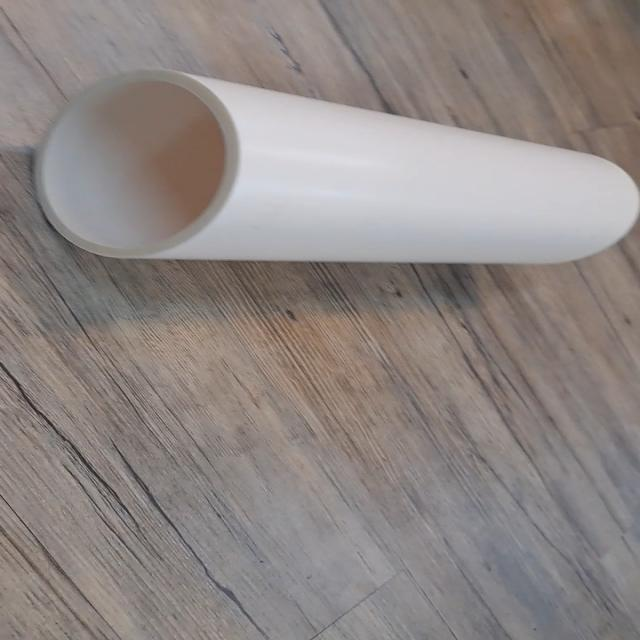CORAL: (30, 52, 640, 278)
